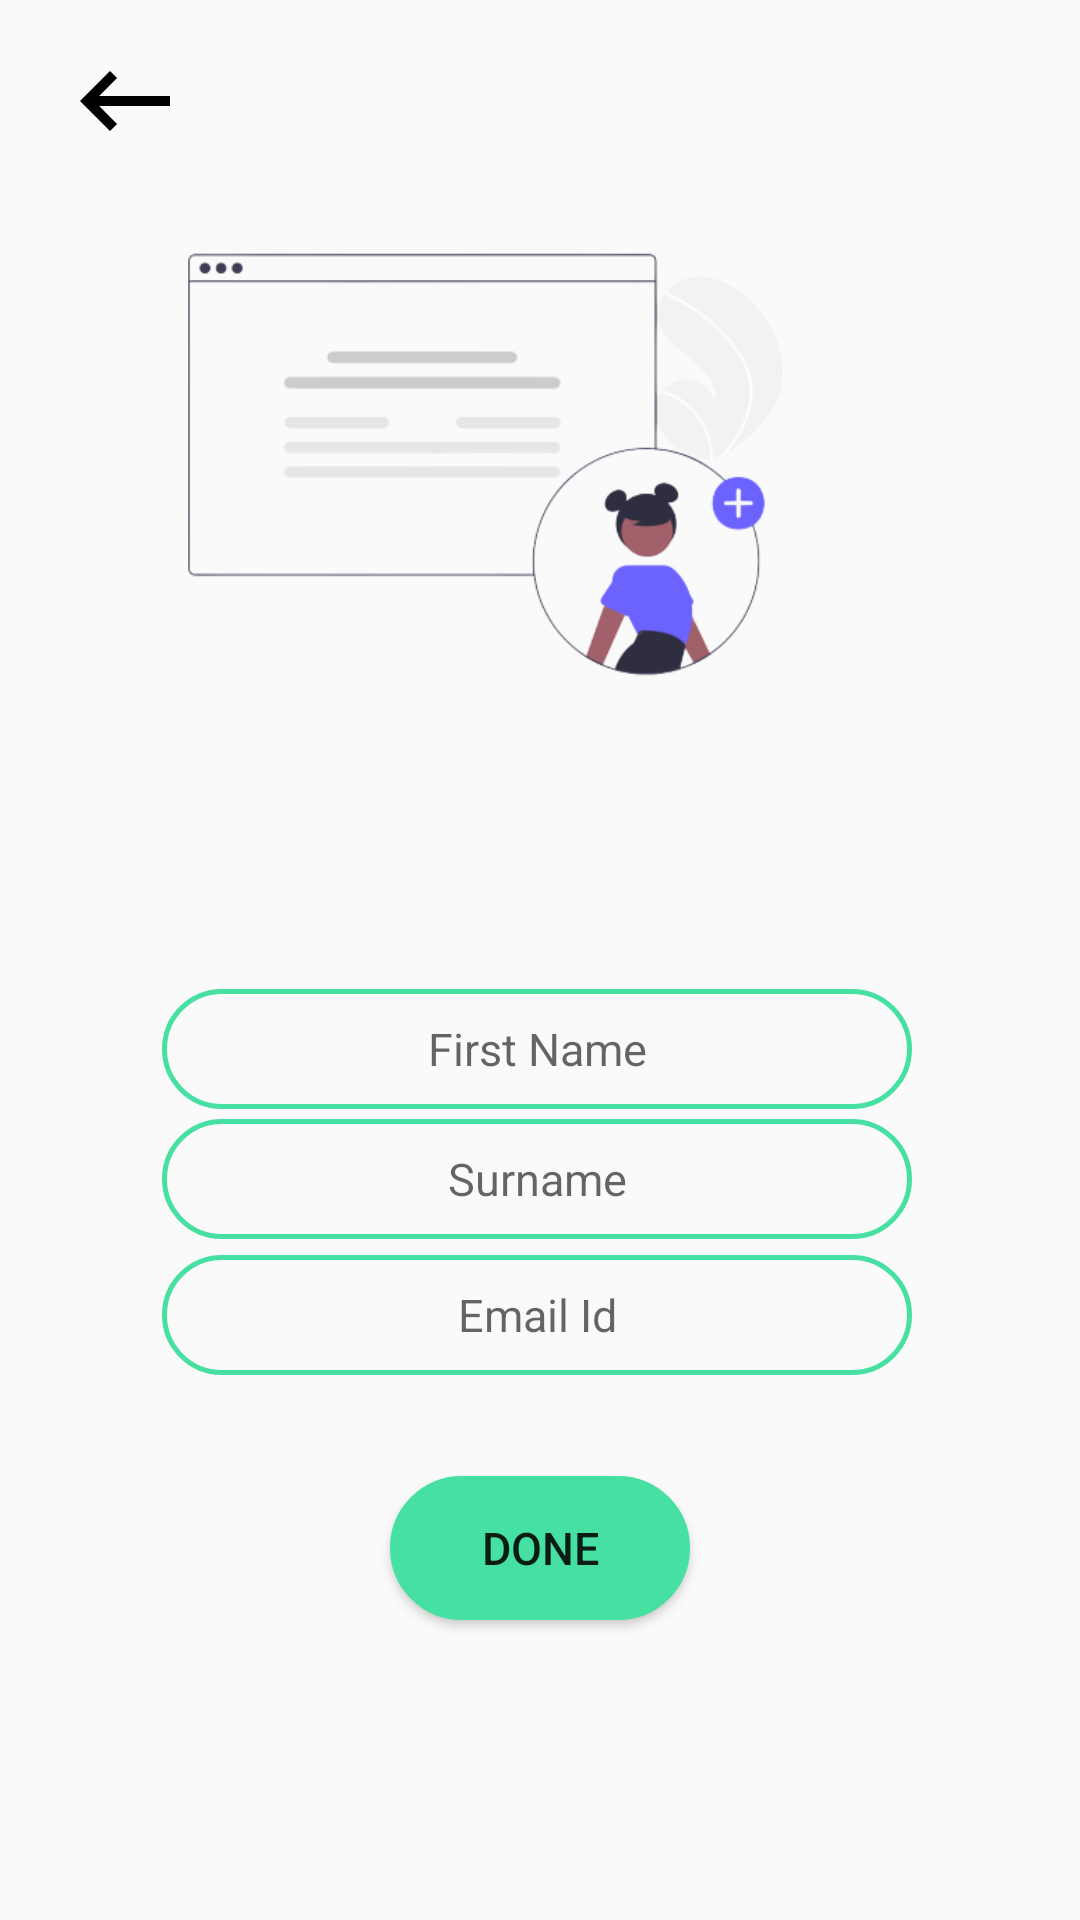

Point at icon controls on the screen. Image size 1080×1920, points as (x,y).
backbtn: (125,101)
